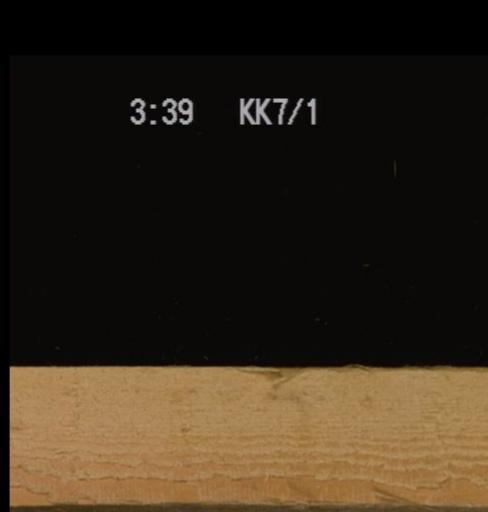split: (267, 365, 312, 388)
